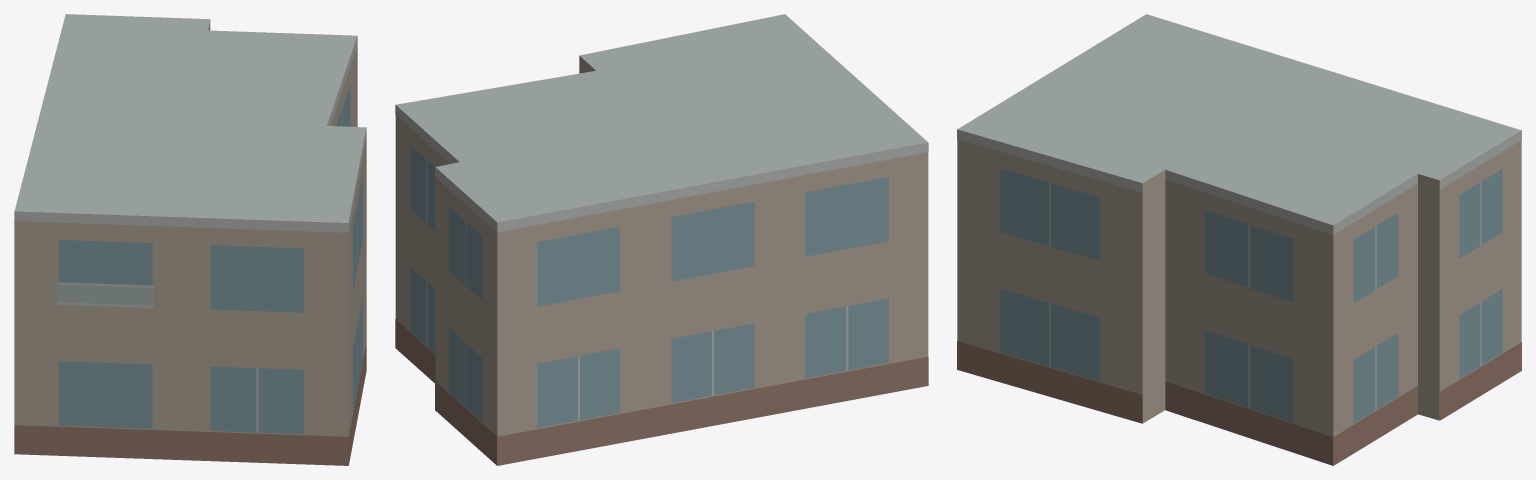
File: survey-upis-33033205.glb
3 views of the same model, side by side, from view 1: azimuth 30°, elevation 25°; view 2: azimuth 150°, elevation 25°; view 3: azimuth 270°, elevation 25° (orthographic).
Visible parts, largest first — view 1: survey-upis-33033205.tmp; view 2: survey-upis-33033205.tmp; view 3: survey-upis-33033205.tmp.
Boxes of the visible parts, x1,y1,x2,y2 form: survey-upis-33033205.tmp: [14, 14, 366, 465]; survey-upis-33033205.tmp: [395, 14, 928, 465]; survey-upis-33033205.tmp: [957, 14, 1521, 465].
Bounding box in the file's own units: 11.51 × 6.1 × 12.99.
